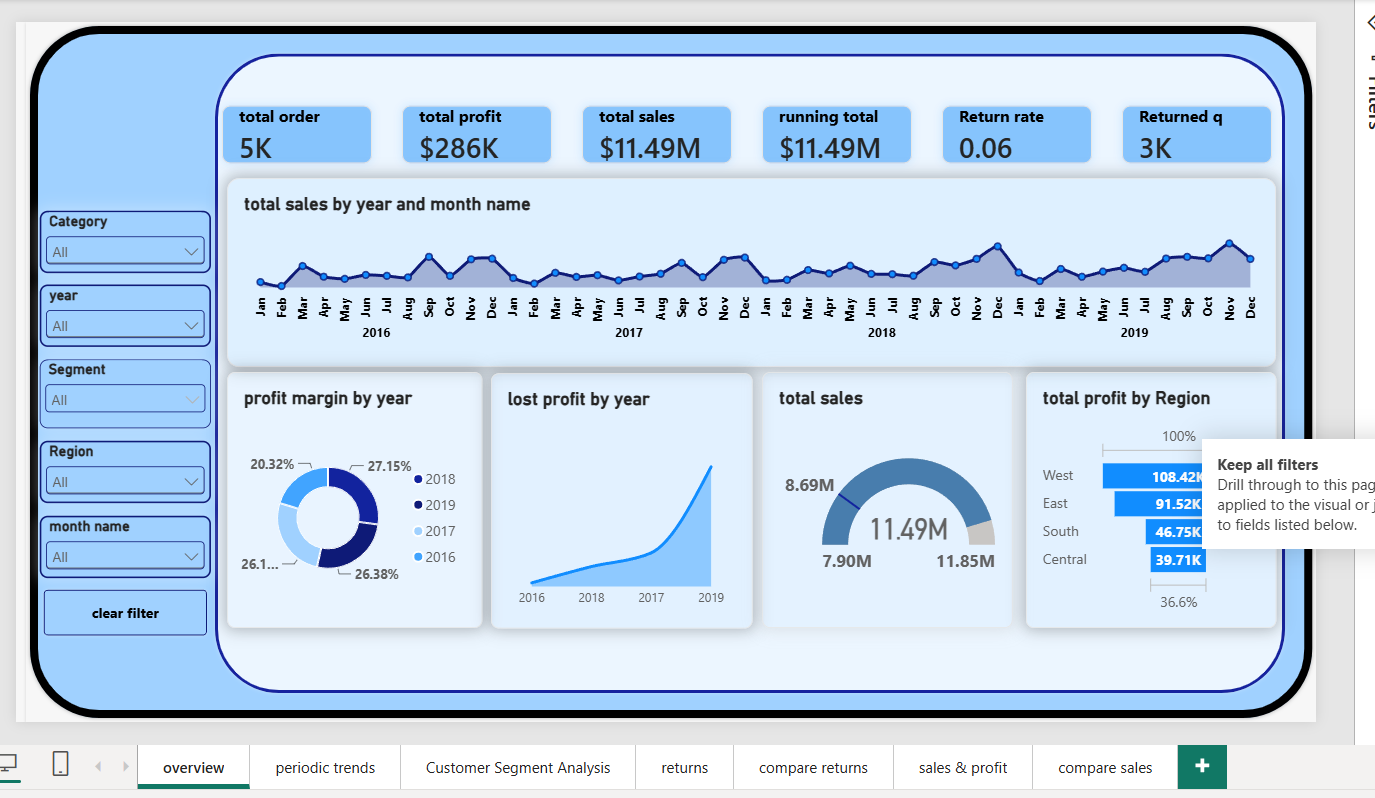

What the dashboard file says about the page in this screenshot:
{"tool":"powerbi","page":{"name":"overview","canvas":[1300,700],"ordinal":0},"visuals":[{"type":"shape","box":[9.8,0,1290.2,700],"z":0},{"type":"shape","box":[195,72.5,1077.5,602.5],"z":1},{"type":"slicer","fields":{"Values":["Orders.Category"]},"box":[28.8,140,171.2,62.5],"z":2},{"type":"slicer","fields":{"Values":["calender table.year"]},"box":[26.2,211.2,171.2,62.5],"z":3},{"type":"slicer","fields":{"Values":["Orders.Segment"]},"box":[26.2,282.5,171.2,62.5],"z":4},{"type":"slicer","fields":{"Values":["Orders.Region"]},"box":[26.2,358.8,171.2,62.5],"z":5},{"type":"slicer","fields":{"Values":["calender table.month name"]},"box":[26.2,431.2,172.5,62.5],"z":6},{"type":"actionButton","box":[25,591.2,171.2,53.8],"z":7},{"type":"cardVisual","fields":{"Data":["Orders.total order","Orders.total profit","Orders.running total","Orders.Return rate","Orders.Delayed Returned"]},"box":[233.8,76.2,990,80],"z":8},{"type":"lineChart","fields":{"Y":["Orders.Returned sales"],"Category":["calender table.year","calender table.month name"]},"box":[211.2,156.2,1048.8,188.8],"z":9},{"type":"donutChart","fields":{"Category":["calender table.year"],"Y":["Orders.profit margin"]},"box":[211.2,350,255,246.2],"z":10},{"type":"gauge","title":"total sales","fields":{"Y":["Orders.total sales"],"MinValue":["Orders.pre month"],"TargetValue":["Orders.target"],"MaxValue":["Orders.max target"]},"box":[483.8,351.2,250,245],"z":12},{"type":"funnel","fields":{"Category":["Orders.Region"],"Y":["Orders.total profit"]},"box":[750,352.5,250,243.8],"z":13},{"type":"pageNavigator","box":[223.8,22.5,1036.2,50],"z":14},{"type":"textbox","box":[233.8,605,990,40],"z":15},{"type":"clusteredBarChart","fields":{"Category":["Orders.Segment"],"Y":["Orders.Delayed Returned","Orders.Returned q"]},"box":[1012.5,352.5,247.5,243.8],"z":16},{"type":"image","box":[70,22.5,88.8,117.5],"z":18},{"type":"slicer","fields":{"Values":["Orders.Ship Mode"]},"box":[26.2,511.2,171.2,62.5],"z":19},{"type":"image","box":[1136.2,106.2,57.5,33.8],"z":20},{"type":"image","box":[963.8,100,36.2,40],"z":21},{"type":"image","box":[771.2,81.2,35,75],"z":22},{"type":"image","box":[560,95,36.2,56.2],"z":23},{"type":"image","box":[366.2,72.5,32.5,92.5],"z":24}]}

Visuals, with their boxes on the page's 1300x700 design canvas (x1, y1, x2, y2). These are canvas units, not pixel positions in the 1375x798 screenshot, which may show the page scaled, cropped or inside an application window:
shape: bbox=[10, 0, 1300, 700]
shape: bbox=[195, 72, 1272, 675]
slicer - Orders.Category: bbox=[29, 140, 200, 202]
slicer - calender table.year: bbox=[26, 211, 197, 274]
slicer - Orders.Segment: bbox=[26, 282, 197, 345]
slicer - Orders.Region: bbox=[26, 359, 197, 421]
slicer - calender table.month name: bbox=[26, 431, 199, 494]
actionButton: bbox=[25, 591, 196, 645]
cardVisual - Orders.total order x Orders.total profit: bbox=[234, 76, 1224, 156]
lineChart - Orders.Returned sales x calender table.year: bbox=[211, 156, 1260, 345]
donutChart - calender table.year x Orders.profit margin: bbox=[211, 350, 466, 596]
"total sales" gauge: bbox=[484, 351, 734, 596]
funnel - Orders.Region x Orders.total profit: bbox=[750, 352, 1000, 596]
pageNavigator: bbox=[224, 22, 1260, 72]
textbox: bbox=[234, 605, 1224, 645]
clusteredBarChart - Orders.Segment x Orders.Delayed Returned: bbox=[1012, 352, 1260, 596]
image: bbox=[70, 22, 159, 140]
slicer - Orders.Ship Mode: bbox=[26, 511, 197, 574]
image: bbox=[1136, 106, 1194, 140]
image: bbox=[964, 100, 1000, 140]
image: bbox=[771, 81, 806, 156]
image: bbox=[560, 95, 596, 151]
image: bbox=[366, 72, 399, 165]
